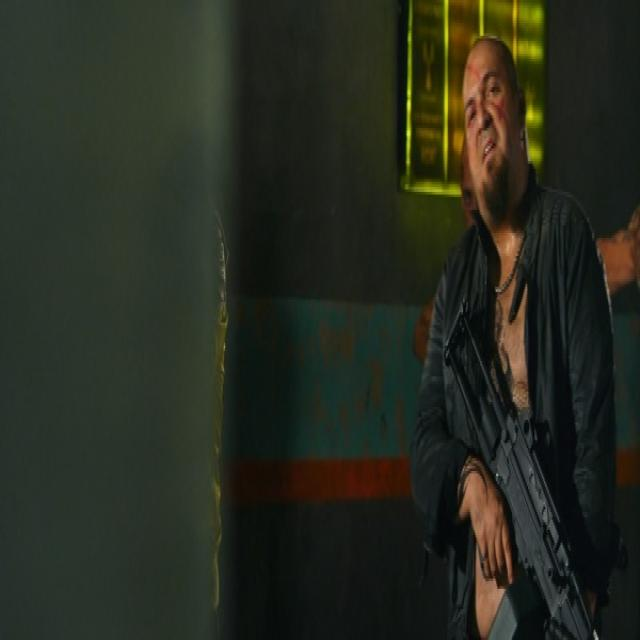rifle: (442, 295, 606, 640)
